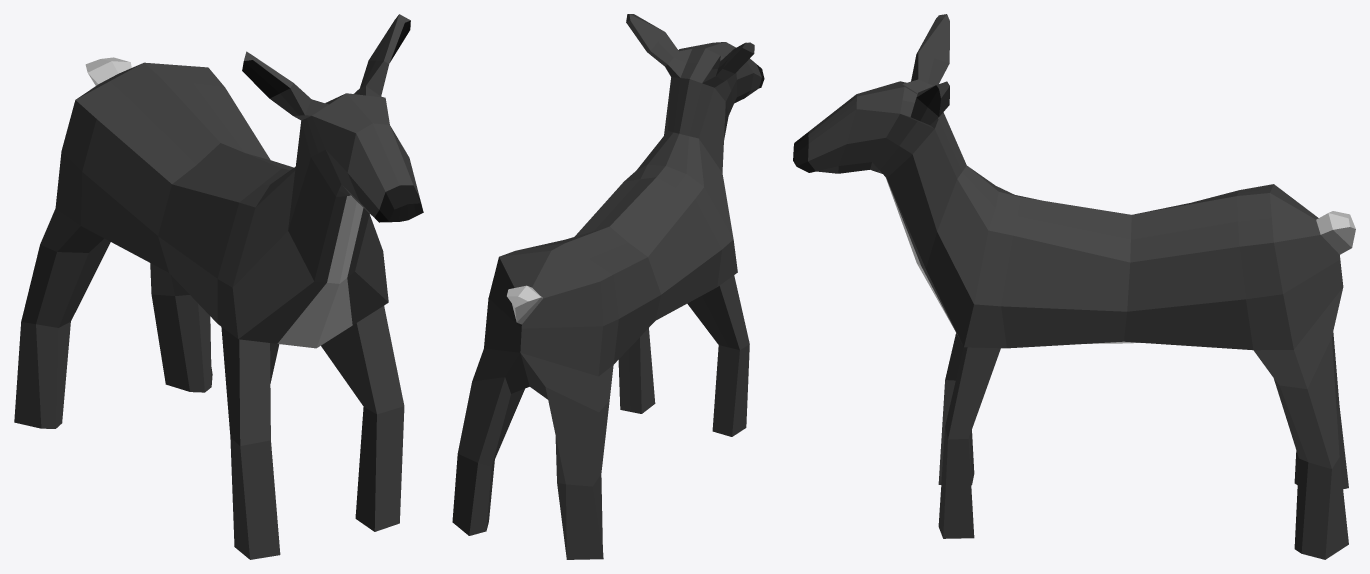
The model's file is Deer.fbx.
3 views of the same model, side by side, from view 1: azimuth 30°, elevation 25°; view 2: azimuth 150°, elevation 25°; view 3: azimuth 270°, elevation 25° (orthographic). The views are drawn at different scales.
Visible parts, largest first — view 1: Deer; view 2: Deer; view 3: Deer.
Boxes of the visible parts, x1,y1,x2,y2 form: Deer: (14,14,423,559); Deer: (452,14,764,559); Deer: (793,14,1355,559).
Size of the model in its own units: 0.4535 by 1.13 by 1.23.
